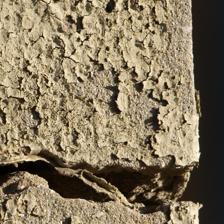Crack: (2, 73, 197, 142)
